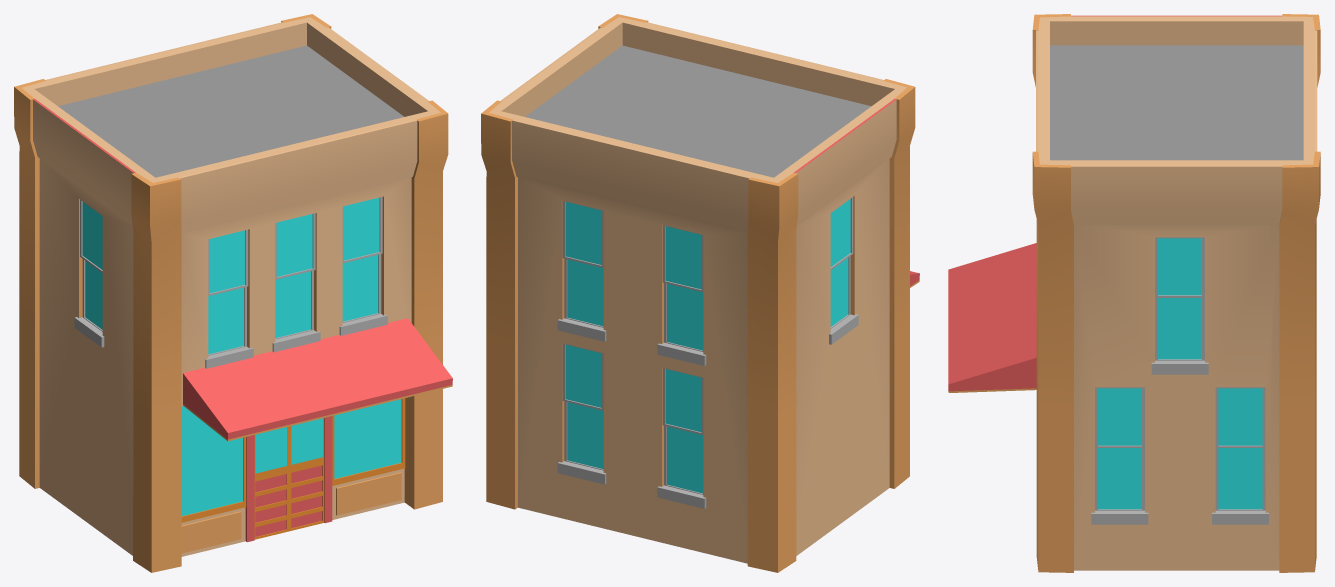
The model's file is SM_House_01.FBX.
3 views of the same model, side by side, from view 1: azimuth 30°, elevation 25°; view 2: azimuth 150°, elevation 25°; view 3: azimuth 270°, elevation 25° (orthographic). The views are drawn at different scales.
Visible parts, largest first — view 1: SM_House_01; view 2: SM_House_01; view 3: SM_House_01.
Part boxes in pixels (box(x1,y1,x2,y2)): SM_House_01: box(14, 14, 452, 572); SM_House_01: box(481, 14, 919, 572); SM_House_01: box(948, 14, 1320, 572).
Bounding box in the file's own units: 5.42 × 6.69 × 5.55.
Materials: 1 (1 with a texture image).
